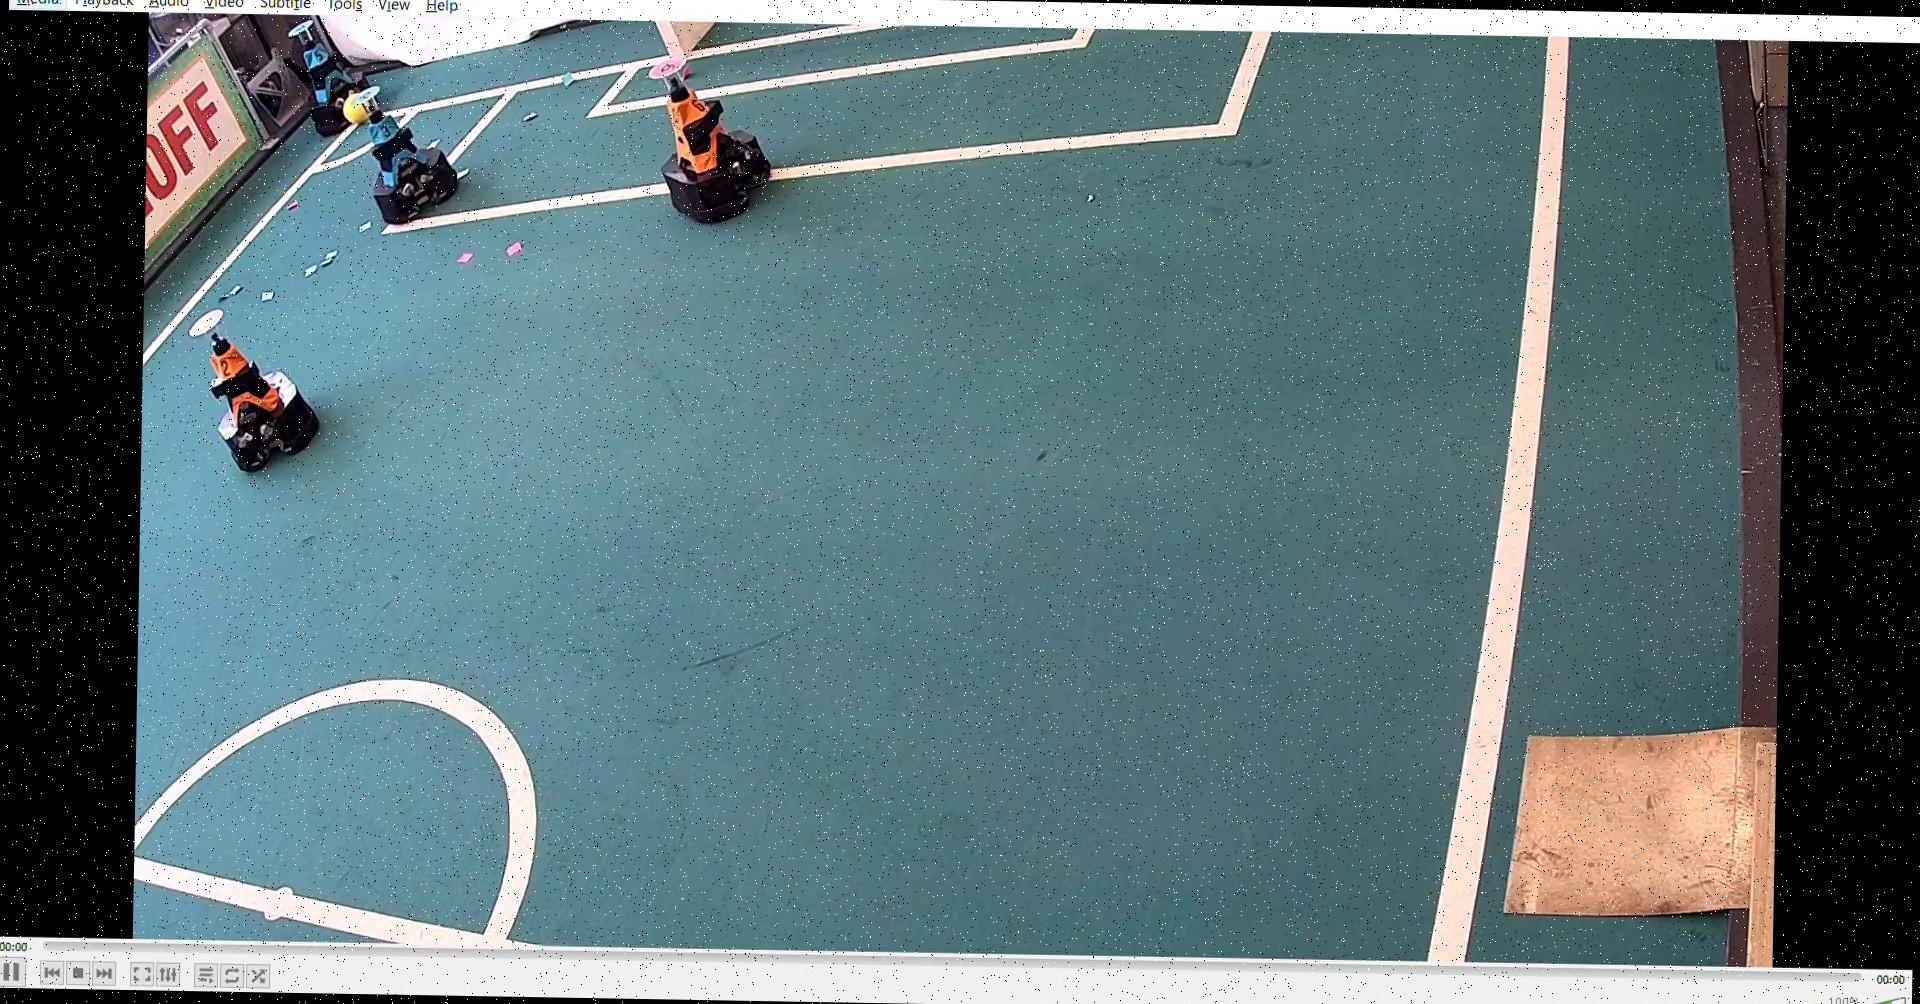Ball: (334, 90, 383, 129)
Team_Blue: (352, 86, 463, 235), (281, 11, 380, 143)
Team_Red: (639, 53, 785, 225), (184, 305, 324, 477)
